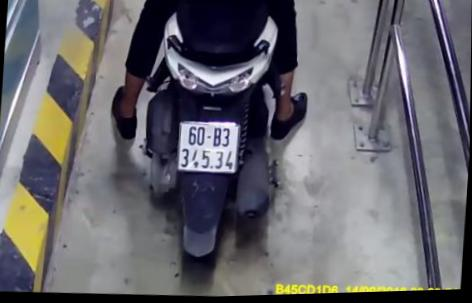LP: (177, 120, 242, 177)
